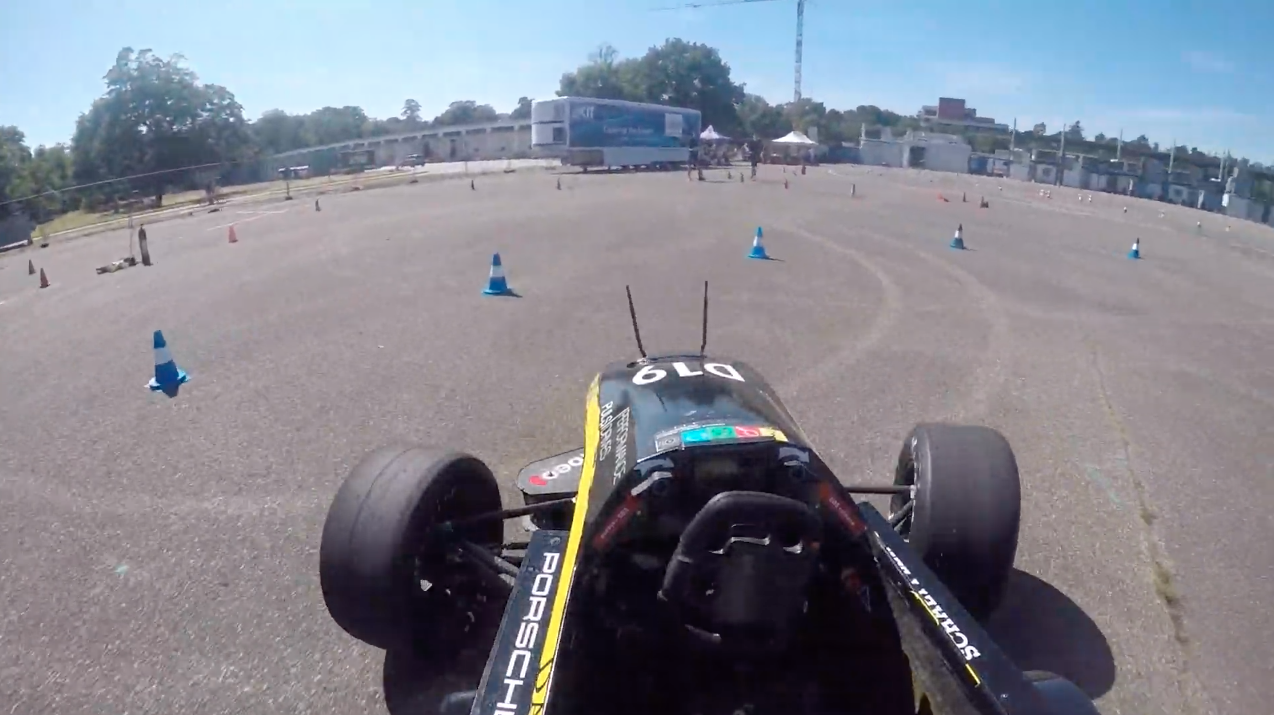lcone: (137, 325, 196, 391), (478, 247, 516, 300), (743, 222, 773, 262), (946, 221, 970, 252), (1126, 235, 1145, 260)
